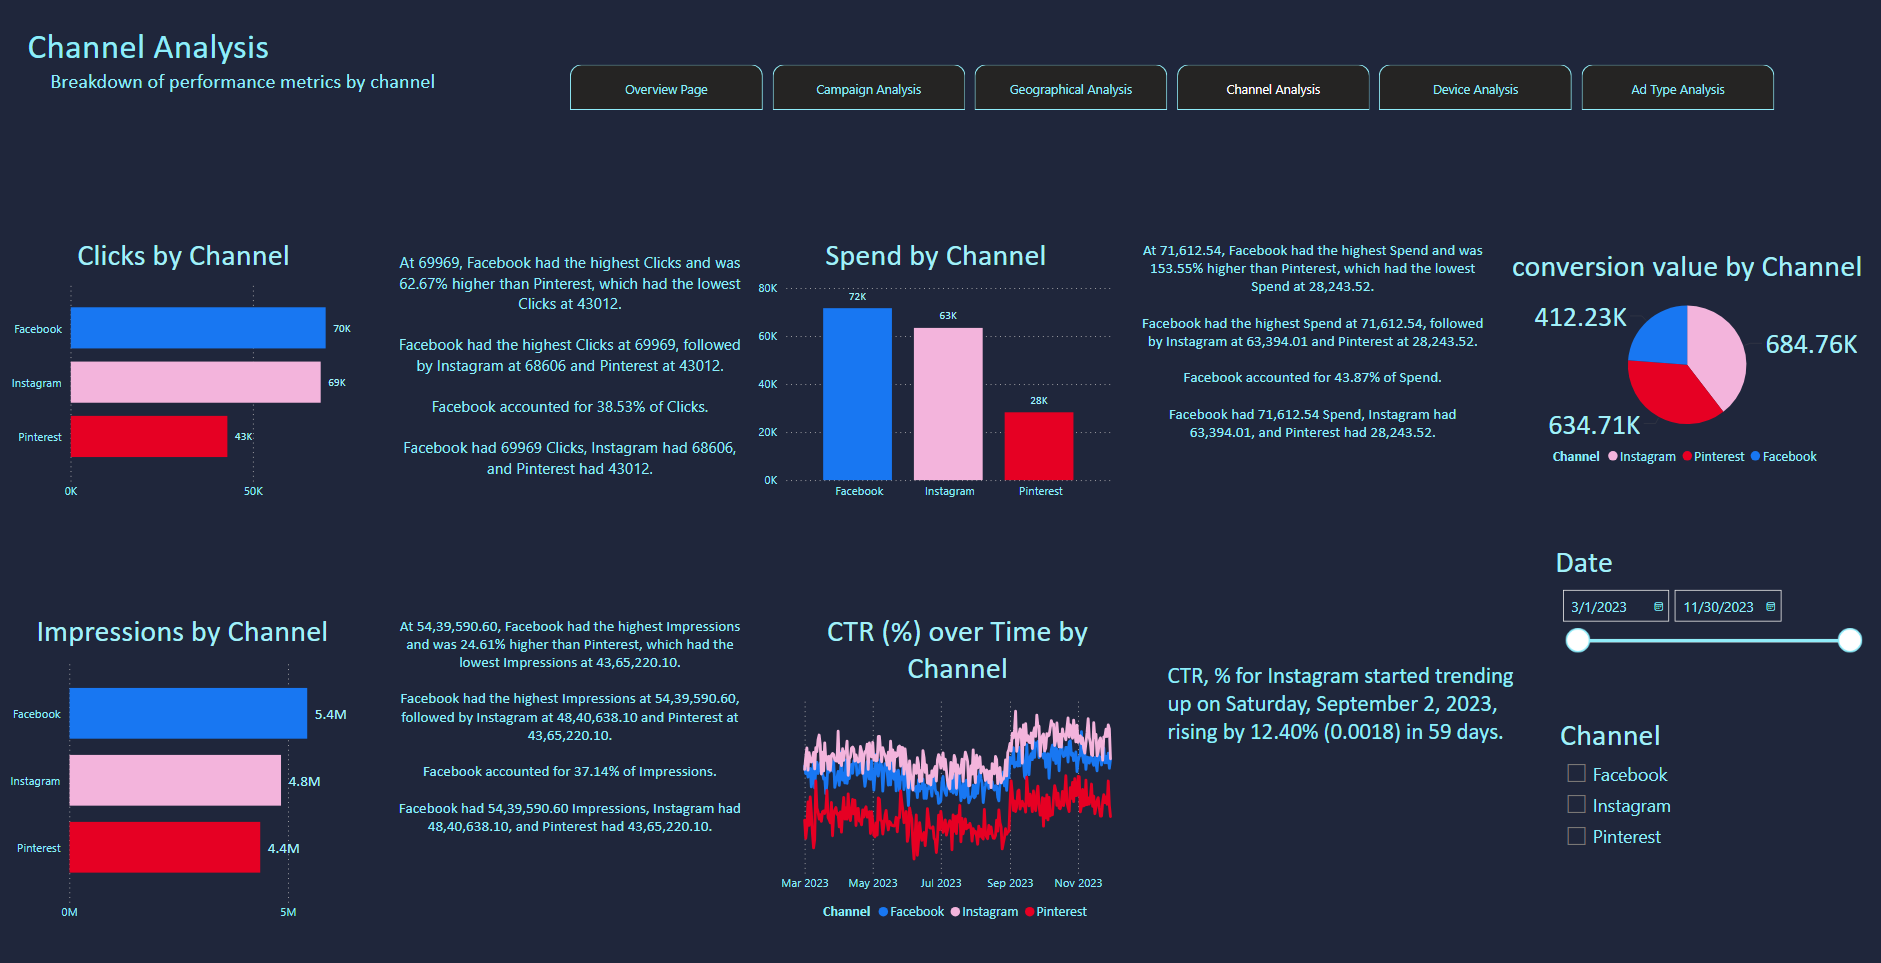

What the dashboard file says about the page in this screenshot:
{"tool":"powerbi","page":{"name":"Channel Analysis","canvas":[1980,1020],"ordinal":3},"visuals":[{"type":"clusteredBarChart","fields":{"Y":["Sum(data.Impressions)"],"Category":["data.Channel"]},"box":[0,648,384,336],"z":0},{"type":"barChart","fields":{"Category":["data.Channel"],"Y":["Sum(data.Clicks)"]},"box":[1.6,252.8,384,288],"z":1000},{"type":"textbox","box":[408,648,384,336],"z":2000},{"type":"clusteredColumnChart","fields":{"Category":["data.Channel"],"Y":["Sum(data.Spend, GBP)"]},"box":[793.6,252.8,384,288],"z":3000},{"type":"lineChart","title":"CTR (%) over Time by Channel","fields":{"Y":["Avg(data.CTR, %)"],"Category":["data.Date.Variation.Date Hierarchy.Year","data.Date.Variation.Date Hierarchy.Quarter","data.Date.Variation.Date Hierarchy.Month","data.Date.Variation.Date Hierarchy.Day"],"Series":["data.Channel"]},"box":[816,648,384,336],"z":4000},{"type":"textbox","box":[1189.6,252.8,384,288],"z":5000},{"type":"pieChart","fields":{"Y":["Sum(data.Total conversion value, GBP)"],"Category":["data.Channel"]},"box":[1584,264,384,240],"z":6000},{"type":"textbox","box":[1224,696,384,120],"z":7000},{"type":"slicer","title":"Date","fields":{"Values":["data.Date"]},"box":[1632,576,336,144],"z":8000},{"type":"slicer","title":"Channel","fields":{"Values":["data.Channel"]},"box":[1636.8,758.4,336,168],"z":9000},{"type":"textbox","box":[408,264,384,288],"z":10000},{"type":"textbox","box":[24,24,288,72],"z":11000},{"type":"textbox","box":[48,72,432,48],"z":12000},{"type":"pageNavigator","box":[600,72,1272,48],"z":13000}]}

Visuals, with their boxes in screenshot pixels (x1, y1, x2, y2), scaled from the page's 1980x1020 canvas onto the 1881x963 screenshot:
clusteredBarChart - Sum(data.Impressions) x data.Channel: <region>0, 612, 365, 929</region>
barChart - data.Channel x Sum(data.Clicks): <region>2, 239, 366, 511</region>
textbox: <region>388, 612, 752, 929</region>
clusteredColumnChart - data.Channel x Sum(data.Spend, GBP): <region>754, 239, 1119, 511</region>
"CTR (%) over Time by Channel" lineChart: <region>775, 612, 1140, 929</region>
textbox: <region>1130, 239, 1495, 511</region>
pieChart - Sum(data.Total conversion value, GBP) x data.Channel: <region>1505, 249, 1870, 476</region>
textbox: <region>1163, 657, 1528, 770</region>
"Date" slicer: <region>1550, 544, 1870, 680</region>
"Channel" slicer: <region>1555, 716, 1874, 875</region>
textbox: <region>388, 249, 752, 521</region>
textbox: <region>23, 23, 296, 91</region>
textbox: <region>46, 68, 456, 113</region>
pageNavigator: <region>570, 68, 1778, 113</region>
